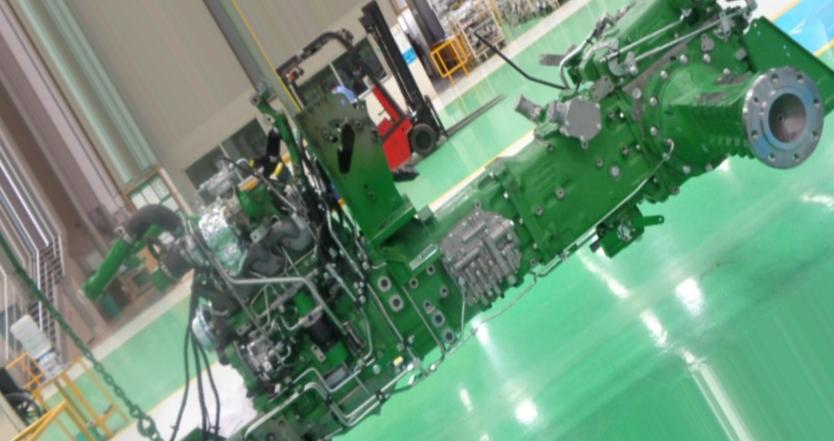engine: (82, 0, 834, 441)
